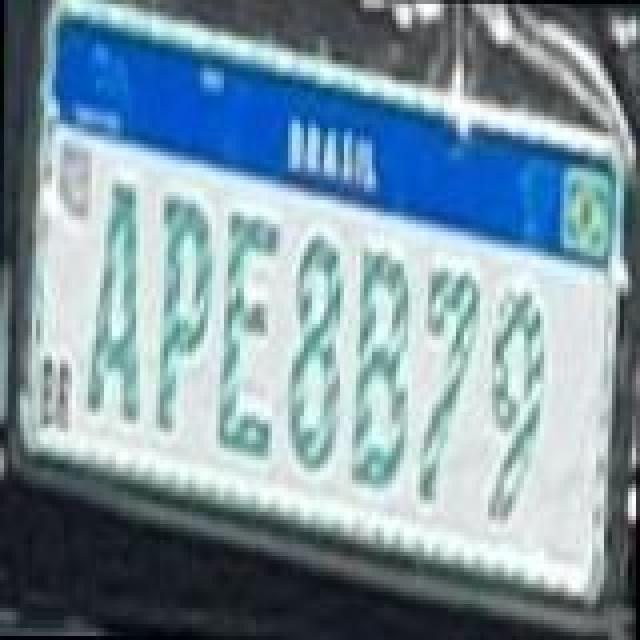7: (414, 264, 478, 508)
8: (284, 228, 348, 476)
9: (484, 282, 552, 526)
A: (80, 174, 144, 426)
B: (346, 240, 414, 492)
E: (216, 204, 280, 464)
P: (152, 192, 216, 436)
